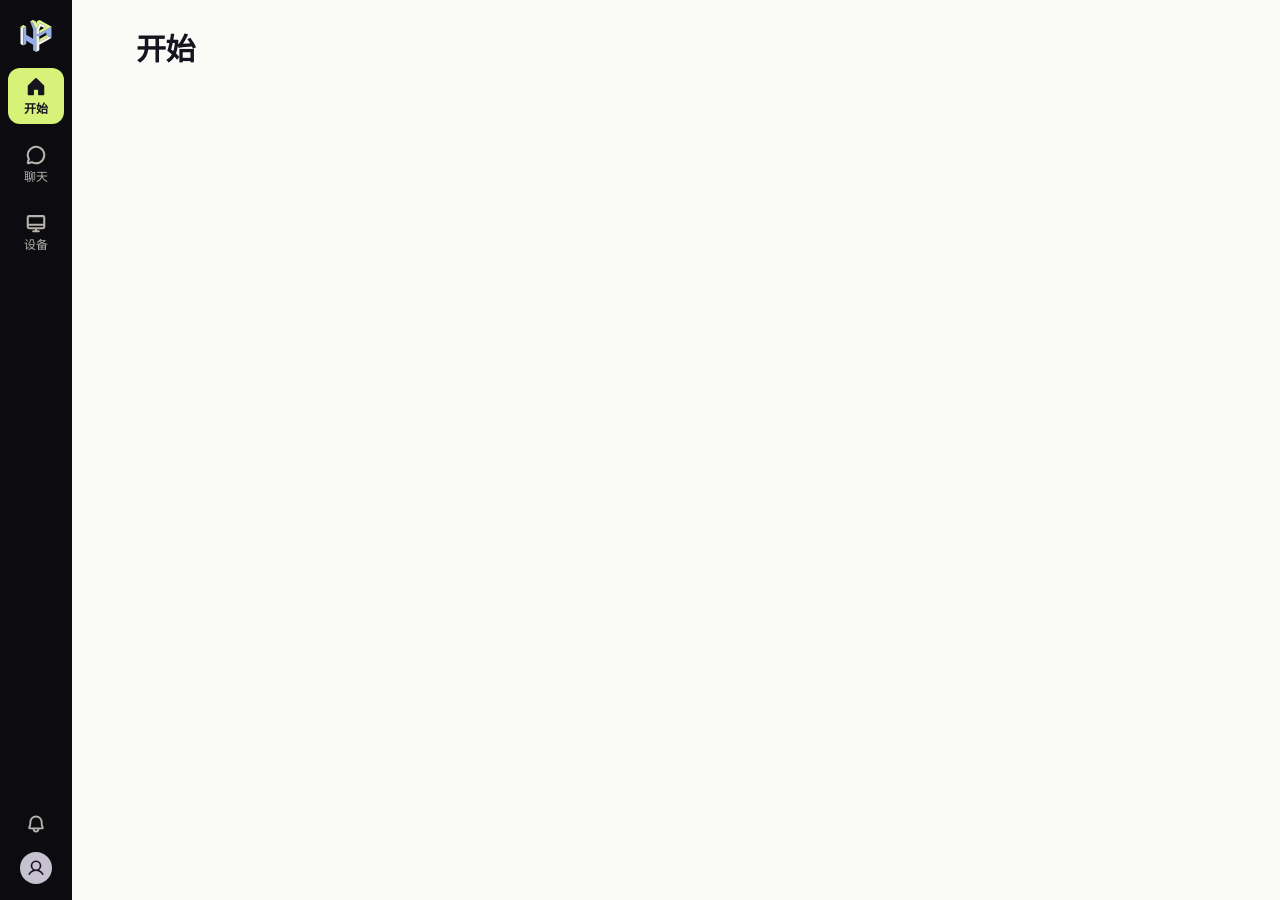
Scenario: settings user/org convergence › exposes device as an external main tab
Click the button "设备": (36, 232) [8, 204, 64, 260]
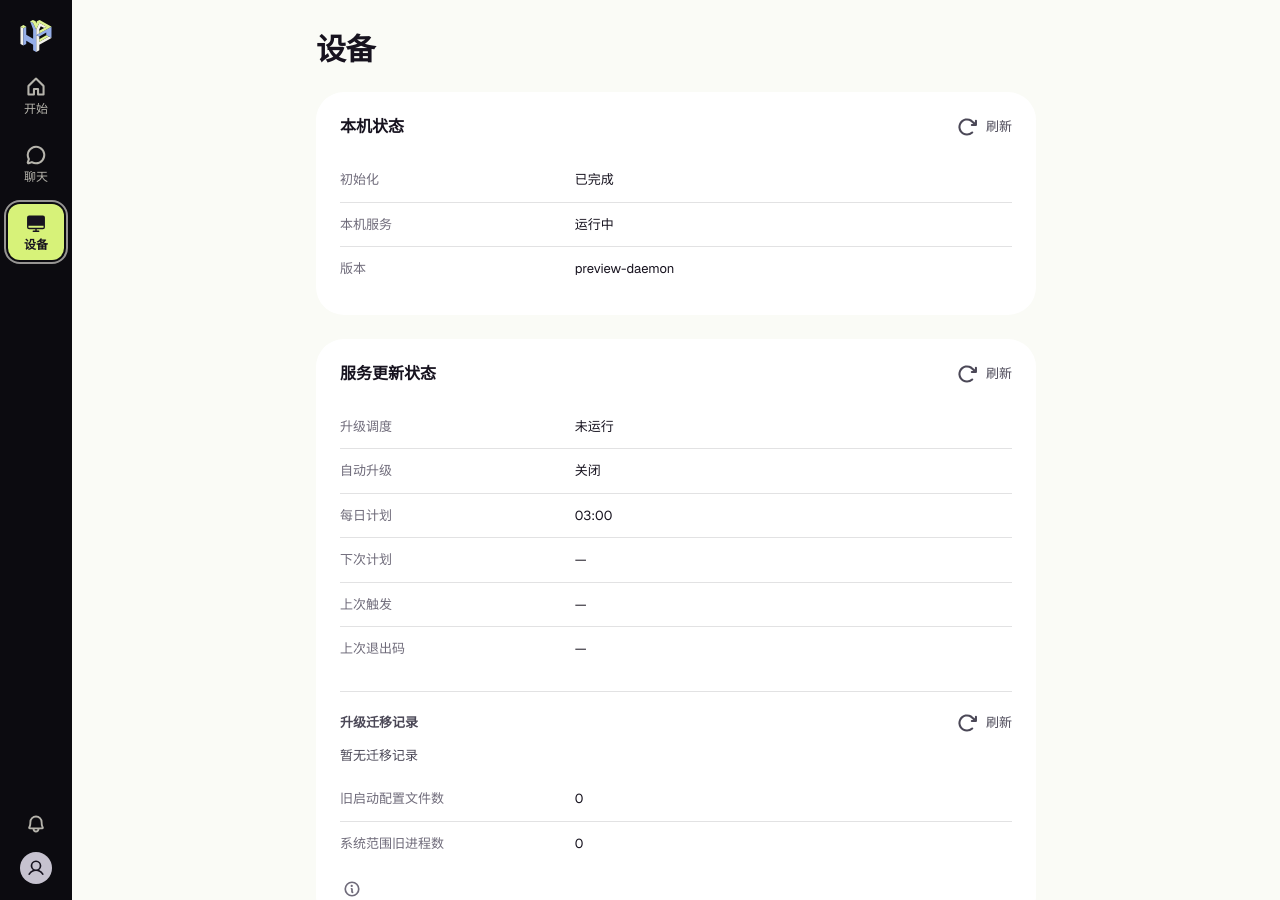
Expected: the element that starts with "本机状态" is shown, [316, 32, 1036, 899]
Expected: the heading "设备" is shown, [316, 30, 375, 69]
